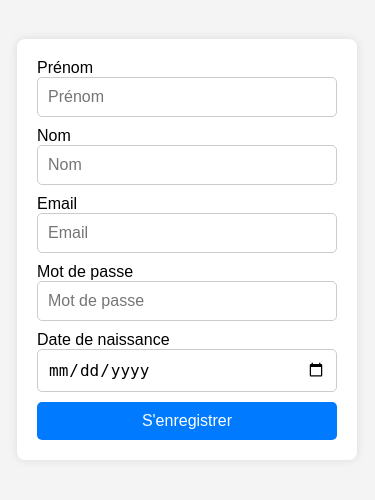
Test: RegistrationForm › erreur utilisateur mineur
The width and height of the screenshot is (375, 500).
Type "Jean" into the field with placeholder "Prénom" at (187, 96), box [37,76,337,116]
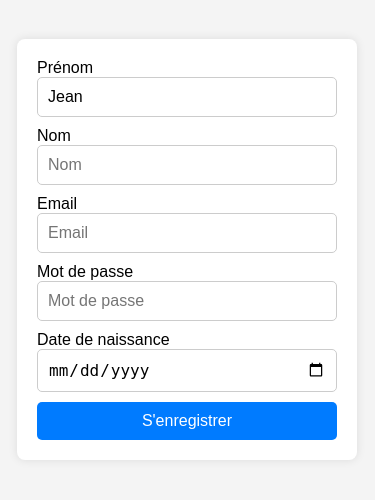
Type "Dupont" into the field with placeholder "Nom" at (187, 164), box [37,144,337,184]
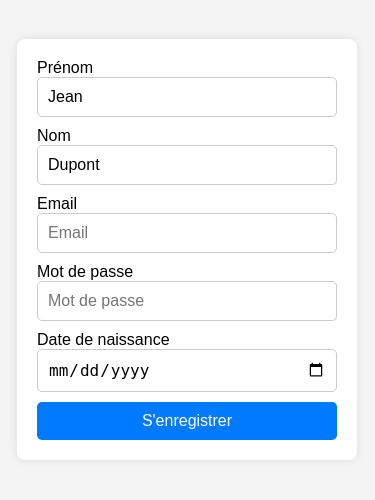
Type "jean@ex.com" into the field with placeholder "Email" at (187, 232), box [37,212,337,252]
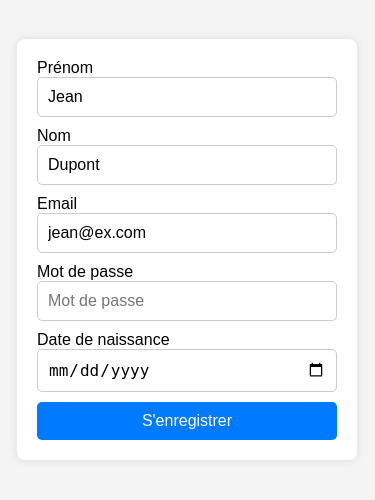
Type "pwd" into the password field with placeholder "Mot de passe" at (187, 300), box [37,280,337,320]
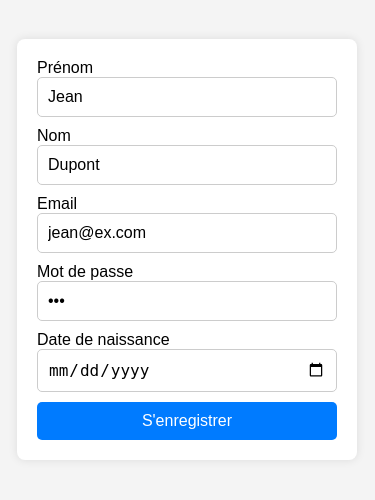
Type "2020-01-01" into the date field labelled "Date de naissance" at (187, 370), box [37,348,337,392]
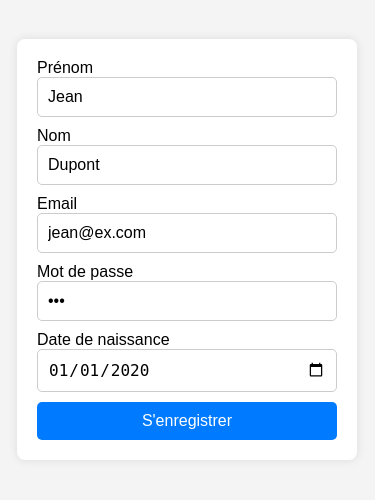
Click the button "S'enregistrer" at (187, 420), box [37,402,337,440]
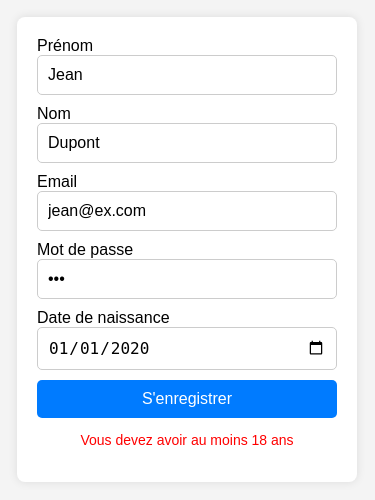
Now the text with test id "error-message" reads "Vous devez avoir au moins 18 ans", box [80,432,294,448]
